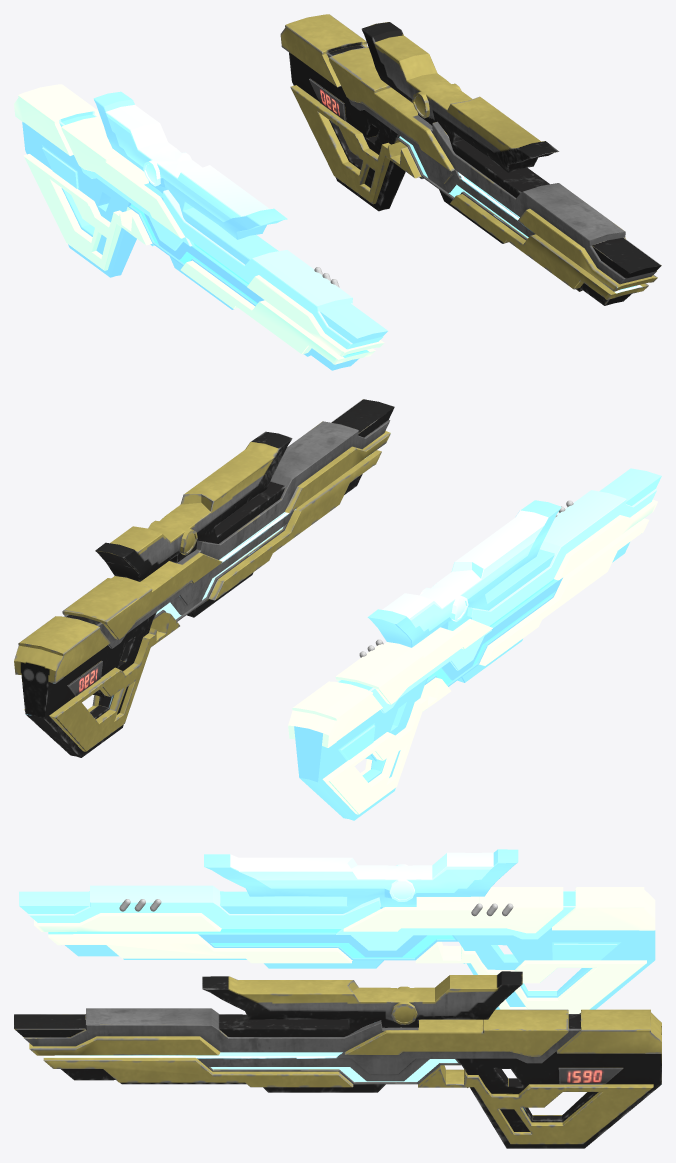
The model's file is scifigun.glb.
The picture shows the model from 3 angles, top to bottom: view 1: azimuth 30°, elevation 25°; view 2: azimuth 150°, elevation 25°; view 3: azimuth 270°, elevation 25°; orthographic projection. The views are drawn at different scales.
Visible parts, largest first — view 1: scifi gun, Cube; view 2: scifi gun, Cube; view 3: scifi gun, Cube, Cube.001.
Part boxes in pixels (x1,y1,x2,y2): scifi gun: (280,14,661,305); Cube: (14,84,387,370); scifi gun: (14,399,394,757); Cube: (288,468,661,820); scifi gun: (14,971,661,1148); Cube: (19,849,655,1013); Cube.001: (119,899,513,916).
Bounding box in the file's own units: 0.8084 × 0.4413 × 1.53.
Materials: 2 (1 with a texture image).
